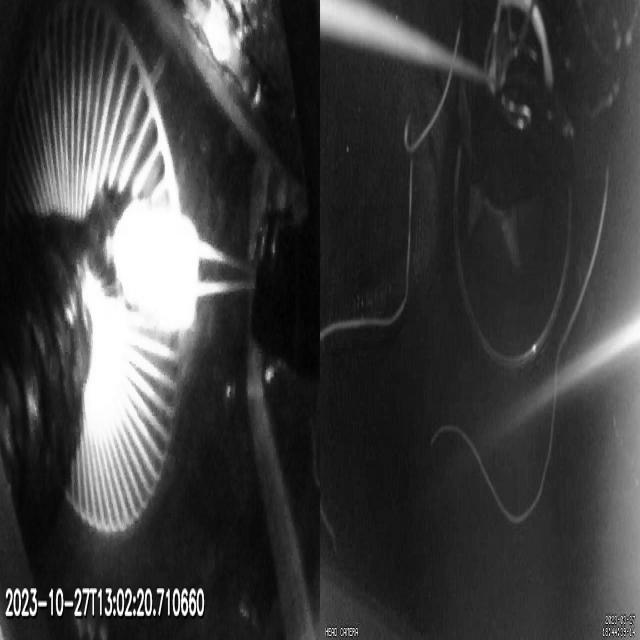head: (124, 196, 198, 328)
